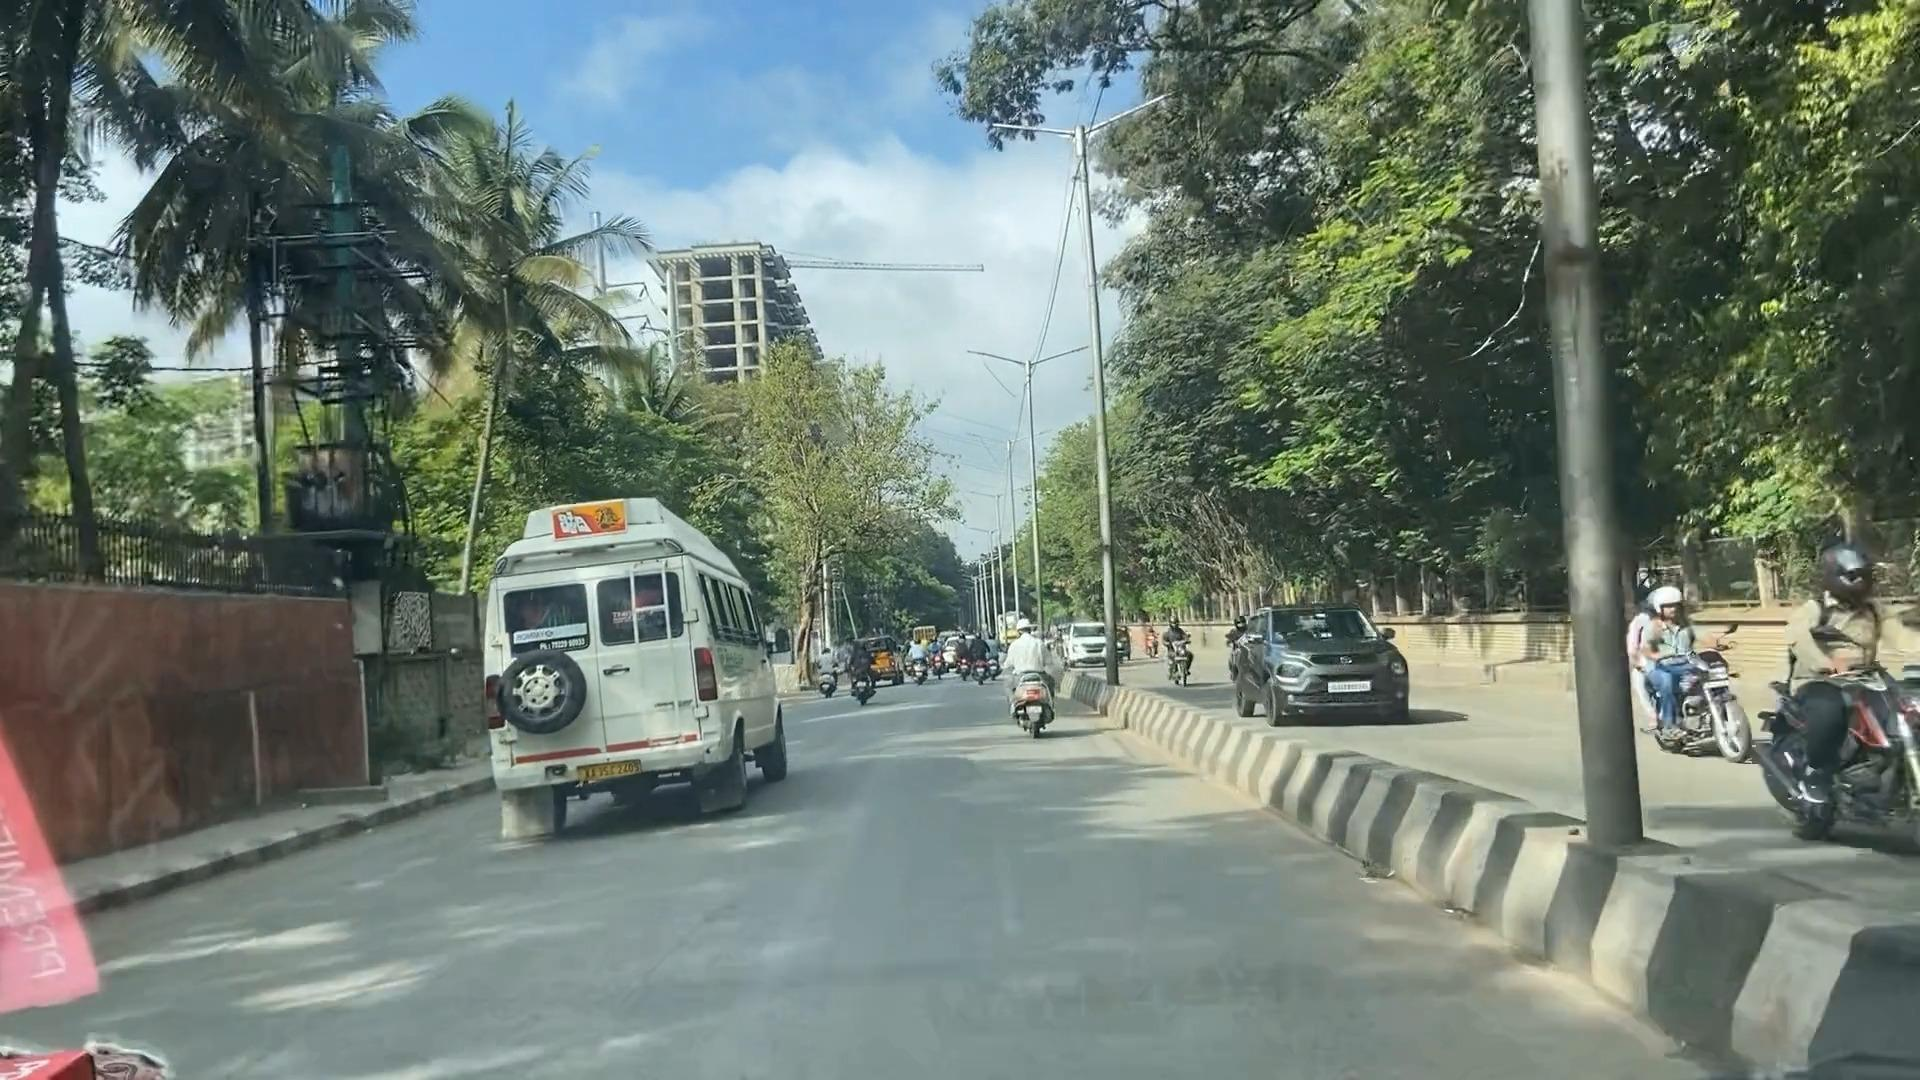HMV: (435, 513, 791, 815)
